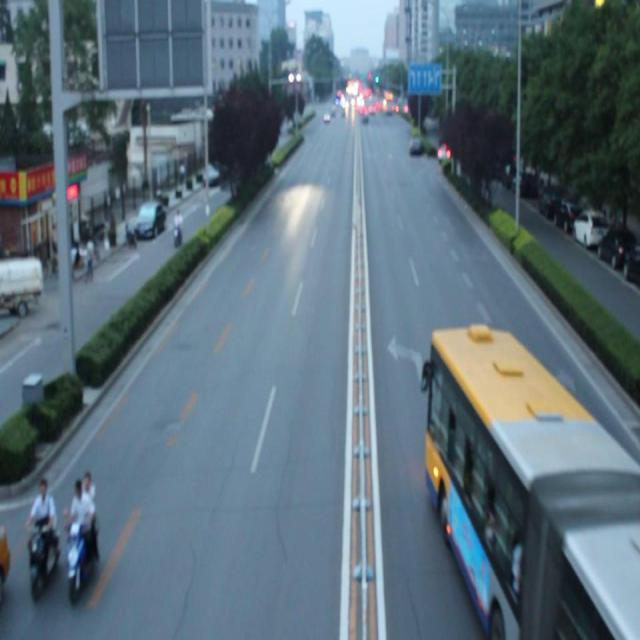van: (428, 326, 640, 640)
